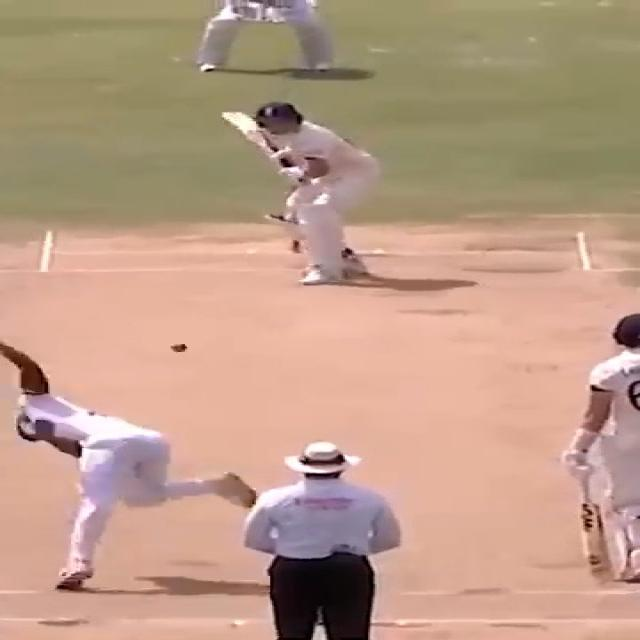Cricket ball: (168, 341, 191, 354)
